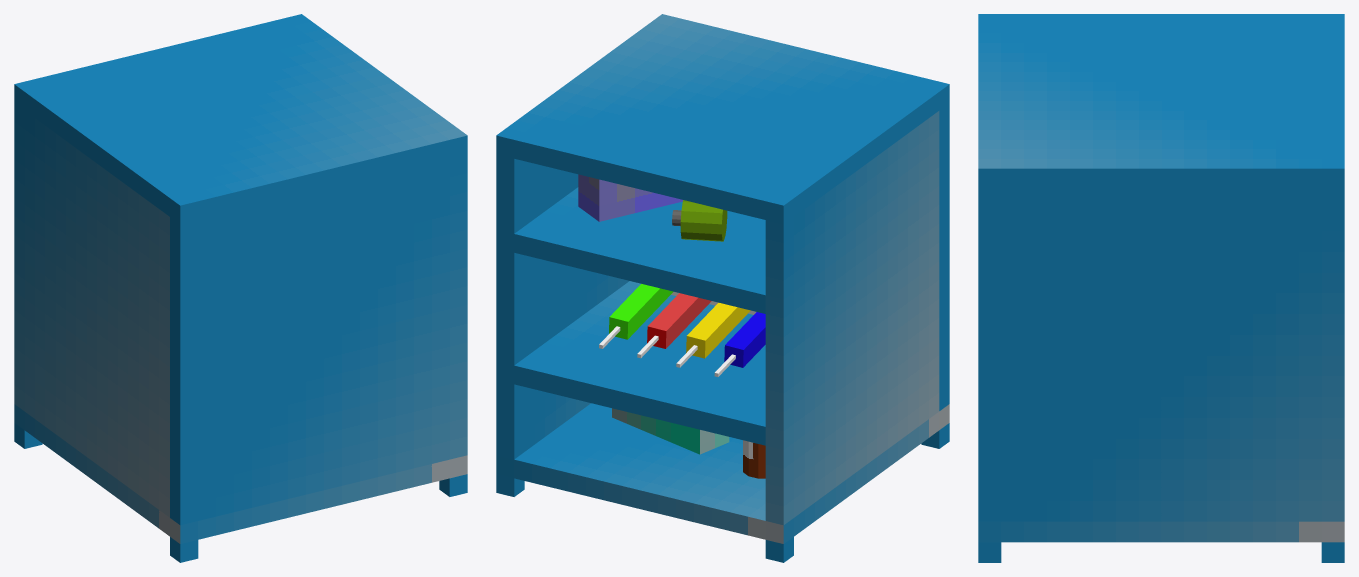
The model's file is szafa.gltf.
3 renders of one model, left to right at view 1: azimuth 30°, elevation 25°; view 2: azimuth 150°, elevation 25°; view 3: azimuth 270°, elevation 25°, orthographic. The views are drawn at different scales.
Parts seen in each view (by area): view 1: scianka (×2), podloga (×2), podporka2; view 2: podloga (×2), scianka (×3), polka (×2), cube (×4), lek (×2), cylinder (×2), podporka2; view 3: scianka (×2), podloga (×2), podporka1 (×2).
Boxes of the visible parts, x1,y1,x2,y2 form: scianka (×2): (14, 103, 467, 525); podloga (×2): (14, 14, 467, 543); podporka2: (170, 537, 198, 562); podloga (×2): (496, 14, 949, 543); scianka (×3): (496, 103, 949, 525); polka (×2): (514, 187, 765, 445); cube (×4): (609, 284, 765, 367); lek (×2): (578, 174, 729, 454); cylinder (×2): (680, 200, 765, 478); podporka2: (765, 537, 793, 562); scianka (×2): (978, 189, 1344, 521); podloga (×2): (978, 14, 1344, 542); podporka1 (×2): (978, 542, 1344, 562).
Size of the model in its own units: 1 by 1.19 by 1.
9 materials, 9 textured.
